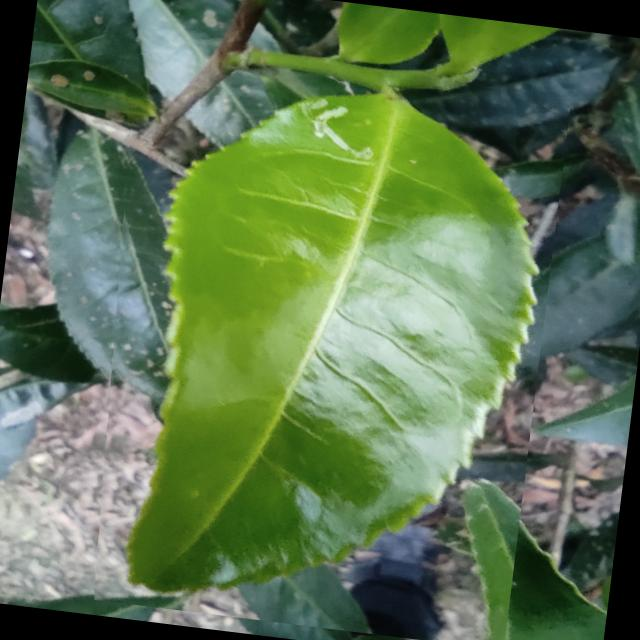Category C(4-7 days): (68, 40, 571, 640)
